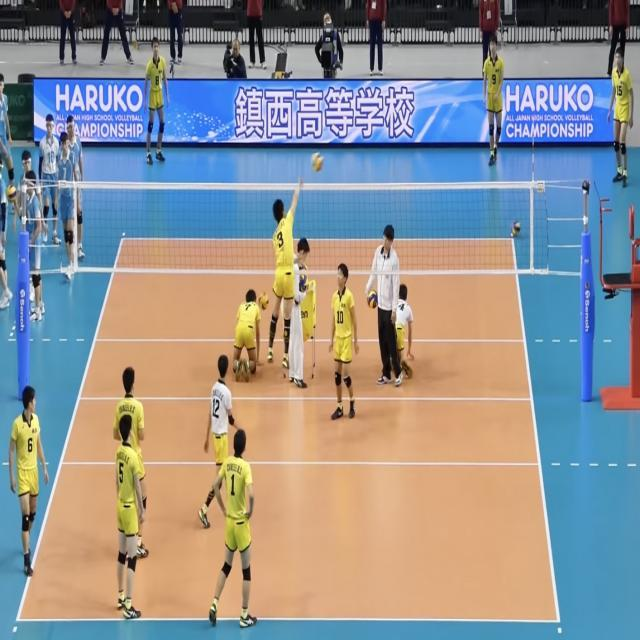spike: (267, 146, 323, 379)
